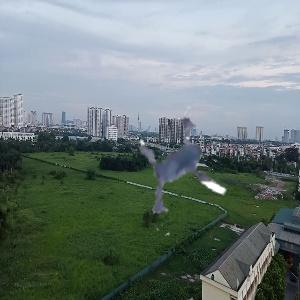drone: (116, 101, 274, 259)
